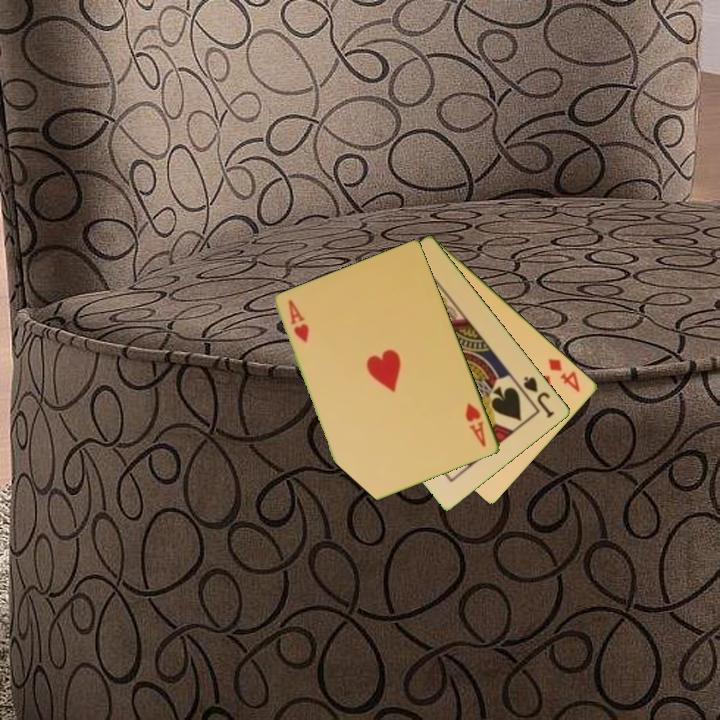4d: (545, 355, 584, 395)
Ah: (462, 399, 489, 450), (285, 296, 312, 346)
Js: (520, 372, 558, 421)
